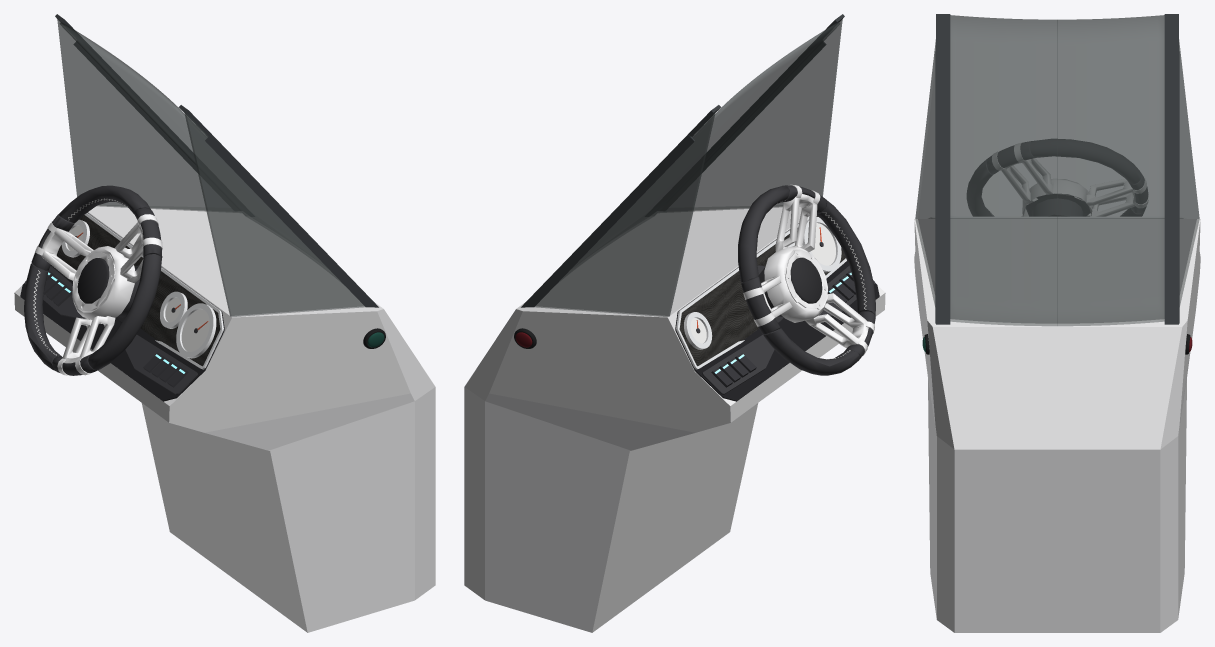
The model's file is lux-console-egoist.glb.
3 renders of one model, left to right at view 1: azimuth 30°, elevation 25°; view 2: azimuth 150°, elevation 25°; view 3: azimuth 270°, elevation 25°, orthographic. The views are drawn at different scales.
Visible parts, largest first — view 1: xs_lux_body, xs_lux_glass_sides_p, xs_lux_glass_sides_s, xs_lux_helm_rim, xs_lux_glass_front, xs_lux_helm_spokes, xs_lux_posts, xs_lux_dash_wood, xs_lux_helm_ring, xs_lux_dash_lower, xs_lux_switch_plates, xs_lux_gauges (+6 smaller); view 2: xs_lux_body, xs_lux_glass_sides_s, xs_lux_glass_sides_p, xs_lux_helm_rim, xs_lux_glass_front, xs_lux_helm_spokes, xs_lux_dash_wood, xs_lux_posts, xs_lux_dash_lower, xs_lux_helm_ring, xs_lux_switch_plates, xs_lux_trims (+6 smaller); view 3: xs_lux_body, xs_lux_glass_front, xs_lux_trims, xs_lux_helm_rim, xs_lux_glass_sides_p, xs_lux_glass_sides_s, xs_lux_helm_spokes, xs_lux_helm_base, xs_lux_helm_ring, xs_lux_posts, xs_lux_dash_trim.
Boxes of the visible parts, <box> form: xs_lux_body: <box>14,205,435,632</box>; xs_lux_glass_sides_p: <box>57,19,240,212</box>; xs_lux_glass_sides_s: <box>184,111,364,316</box>; xs_lux_helm_rim: <box>24,185,162,375</box>; xs_lux_glass_front: <box>59,22,328,269</box>; xs_lux_helm_spokes: <box>41,222,143,363</box>; xs_lux_posts: <box>74,41,378,307</box>; xs_lux_dash_wood: <box>56,215,220,366</box>; xs_lux_helm_ring: <box>72,246,134,319</box>; xs_lux_dash_lower: <box>20,265,205,401</box>; xs_lux_switch_plates: <box>24,266,197,394</box>; xs_lux_gauges: <box>61,219,216,358</box>; xs_lux_body: <box>464,205,885,632</box>; xs_lux_glass_sides_s: <box>659,19,842,212</box>; xs_lux_glass_sides_p: <box>535,111,715,316</box>; xs_lux_helm_rim: <box>738,185,875,375</box>; xs_lux_glass_front: <box>571,22,840,269</box>; xs_lux_helm_spokes: <box>761,194,868,348</box>; xs_lux_dash_wood: <box>679,216,845,366</box>; xs_lux_posts: <box>521,42,825,307</box>; xs_lux_dash_lower: <box>694,261,879,401</box>; xs_lux_helm_ring: <box>764,246,827,322</box>; xs_lux_switch_plates: <box>702,266,875,394</box>; xs_lux_trims: <box>521,14,844,307</box>; xs_lux_body: <box>914,219,1200,632</box>; xs_lux_glass_front: <box>950,15,1164,326</box>; xs_lux_trims: <box>936,14,1178,324</box>; xs_lux_helm_rim: <box>967,139,1147,216</box>; xs_lux_glass_sides_p: <box>1179,39,1199,306</box>; xs_lux_glass_sides_s: <box>915,39,935,304</box>; xs_lux_helm_spokes: <box>1001,158,1135,216</box>; xs_lux_helm_base: <box>1026,194,1090,216</box>; xs_lux_helm_ring: <box>1022,179,1091,216</box>; xs_lux_posts: <box>935,51,1179,323</box>; xs_lux_dash_trim: <box>928,217,1186,218</box>.
Size of the model in its own units: 0.6849 by 1.07 by 0.551.
Materials: 18 (1 with a texture image).
